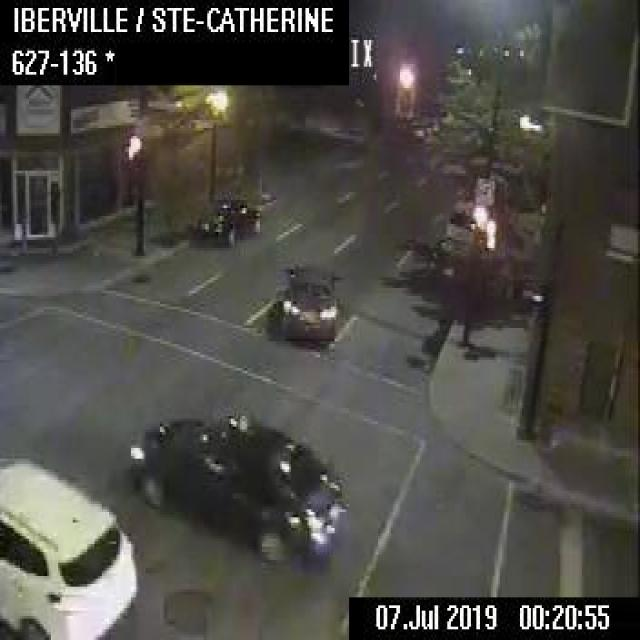vehicle: (127, 416, 346, 563), (0, 448, 138, 637), (279, 262, 343, 342), (192, 192, 262, 245), (446, 197, 474, 243)
